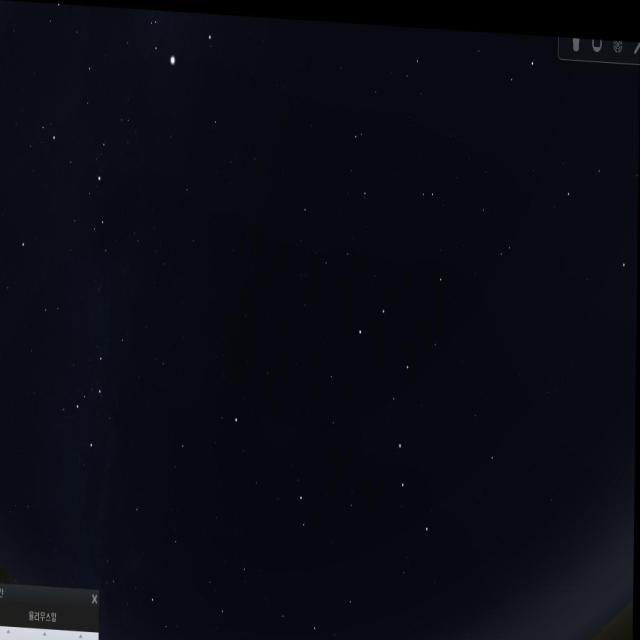cassiopeia: (69, 317, 137, 463)
ursa_major: (354, 281, 439, 551)
